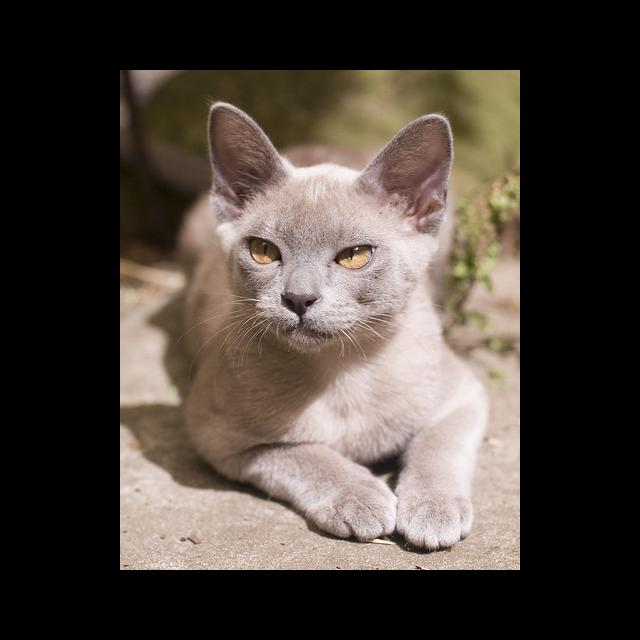animals: (217, 102, 437, 312)
